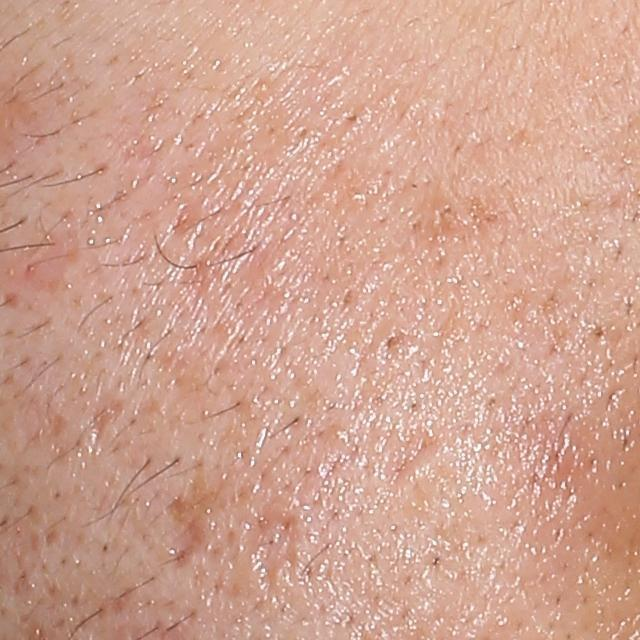atrophic_scar: (245, 510, 301, 590), (157, 492, 209, 569), (394, 426, 439, 482), (87, 396, 124, 452)
